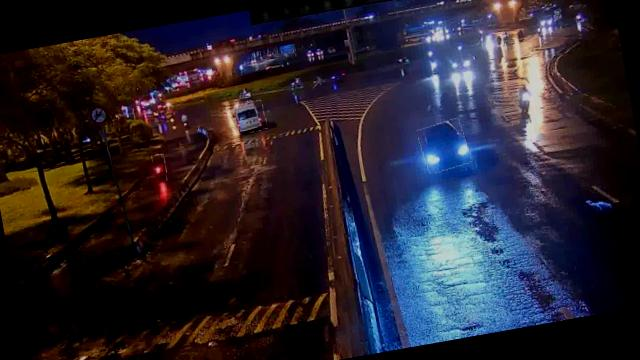Bike: (517, 84, 536, 118), (151, 153, 168, 182)
Bus: (228, 100, 268, 135)
Car: (416, 118, 472, 174)
